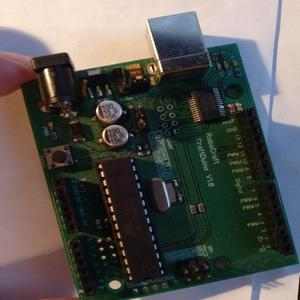duino: (23, 15, 291, 290)
